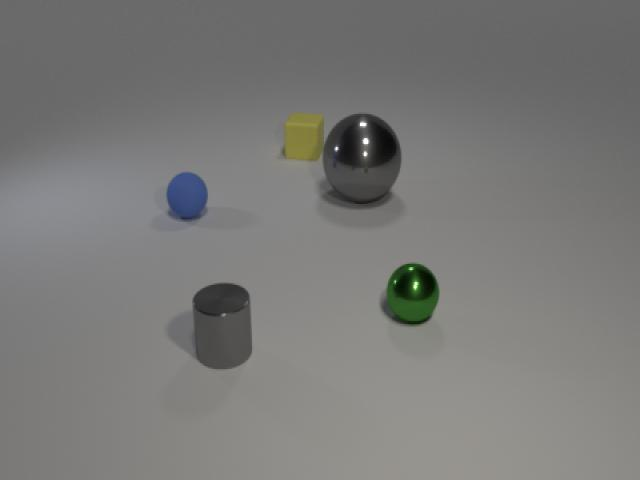cylinder: (189, 280, 257, 374)
round ball: (318, 108, 406, 206), (383, 257, 444, 327), (163, 166, 212, 222)
